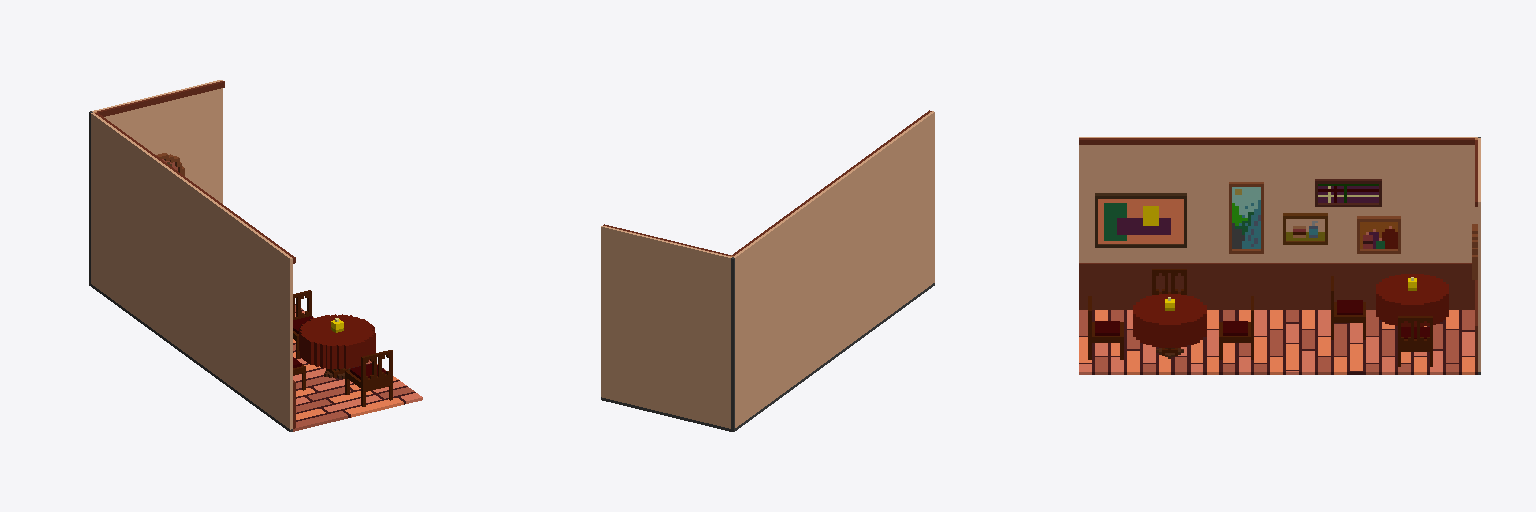
The picture shows the model from 3 angles: view 1: azimuth 30°, elevation 25°; view 2: azimuth 150°, elevation 25°; view 3: azimuth 270°, elevation 25°; orthographic projection.
Parts seen in each view (by area): view 1: object 1; view 2: object 1; view 3: object 1.
Part boxes in pixels (x1,y1,x2,y2): object 1: (89, 80, 422, 431); object 1: (601, 110, 934, 431); object 1: (1079, 137, 1480, 374).
Bounding box in the file's own units: 4.8 × 6 × 12.6.
1 materials, 1 textured.